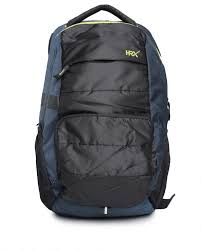backpack: (34, 3, 175, 219)
